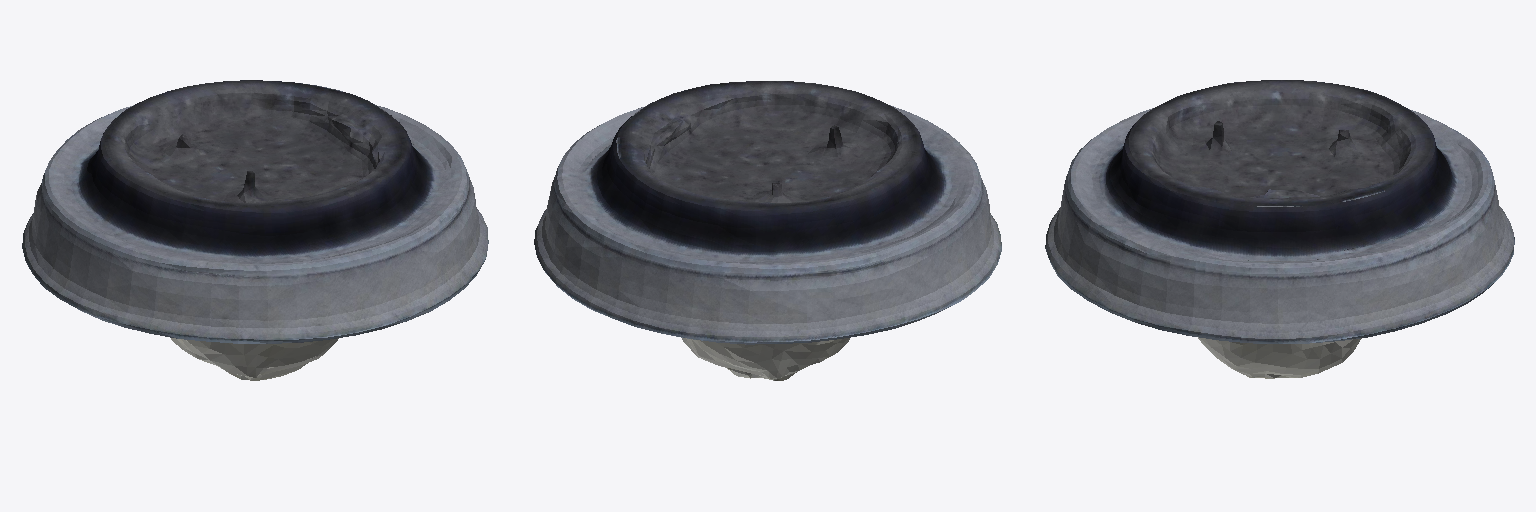
The picture shows the model from 3 angles: view 1: azimuth 30°, elevation 25°; view 2: azimuth 150°, elevation 25°; view 3: azimuth 270°, elevation 25°; orthographic projection.
Visible parts, largest first — view 1: LAMPARAIN; view 2: LAMPARAIN; view 3: LAMPARAIN.
Part boxes in pixels (left/top/right/bottom): LAMPARAIN: left=22, top=80, right=488, bottom=380; LAMPARAIN: left=534, top=81, right=1001, bottom=380; LAMPARAIN: left=1045, top=80, right=1514, bottom=378.
Size of the model in its own units: 0.4928 by 0.2686 by 0.4934.
1 materials, 1 textured.